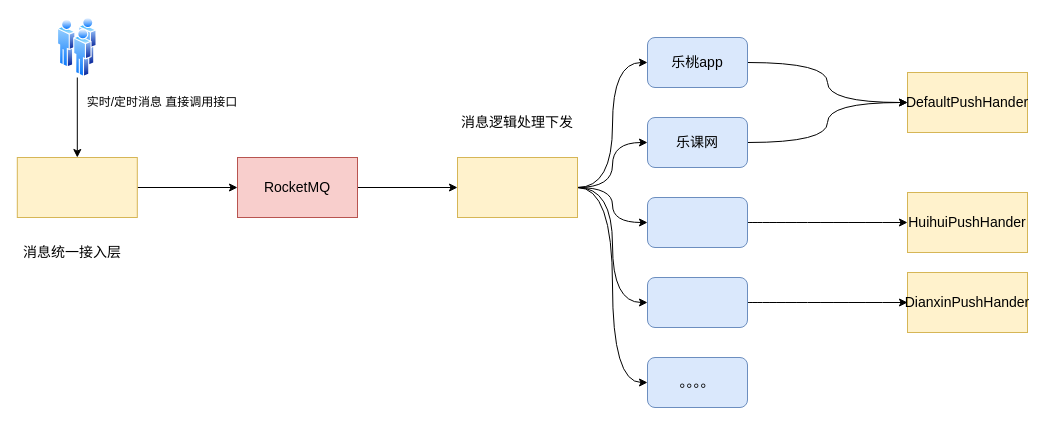
The diagram is 1048 pixels wide and 425 high, and some of its shapes have lost their labels. The shapes that lost their labels are listed below. From the top down, each one's centre as x and y in pixels, then its label:
pixel 76 187: msg-api
pixel 517 187: msg-hander
pixel 697 222: 回回app
pixel 697 302: 电信
